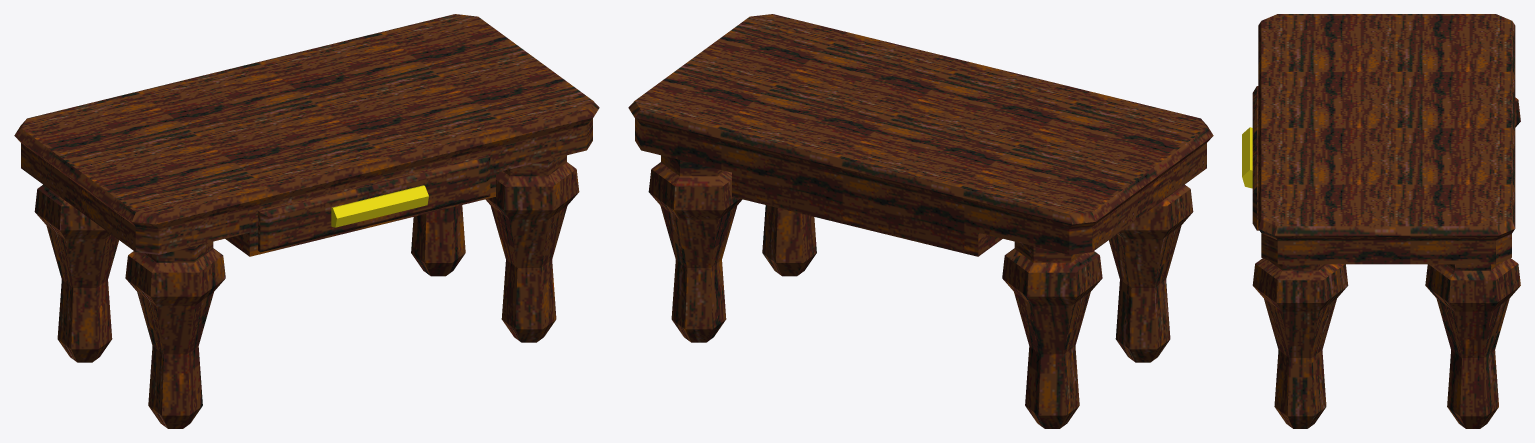
Rendered from HardwoodTable.fbx.
The picture shows the model from 3 angles, left to right: view 1: azimuth 30°, elevation 25°; view 2: azimuth 150°, elevation 25°; view 3: azimuth 270°, elevation 25°; orthographic projection. The views are drawn at different scales.
Parts seen in each view (by area): view 1: Cube.001; view 2: Cube.001; view 3: Cube.001.
Boxes of the visible parts, bbox=[...] form: Cube.001: bbox=[14, 14, 599, 428]; Cube.001: bbox=[628, 14, 1213, 428]; Cube.001: bbox=[1242, 14, 1520, 428].
Size of the model in its own units: 238 by 113 by 129.
